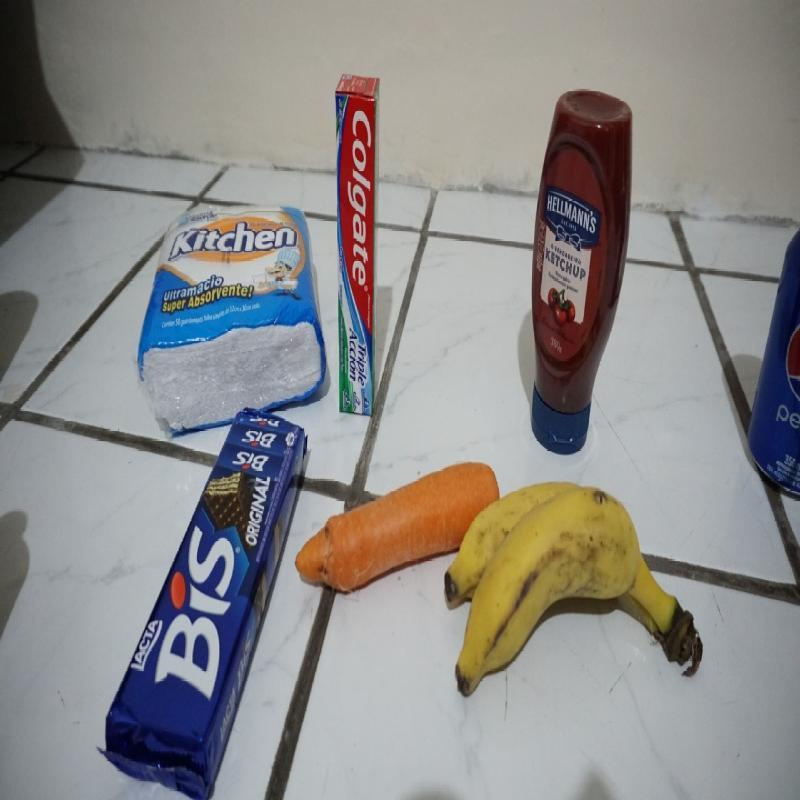Banana: (446, 483, 702, 698)
Carrot: (298, 464, 500, 592)
Ketchup: (531, 90, 633, 454)
Napkin: (138, 205, 328, 435)
Soda can: (746, 231, 800, 500)
Toothpaste: (335, 73, 378, 416)
